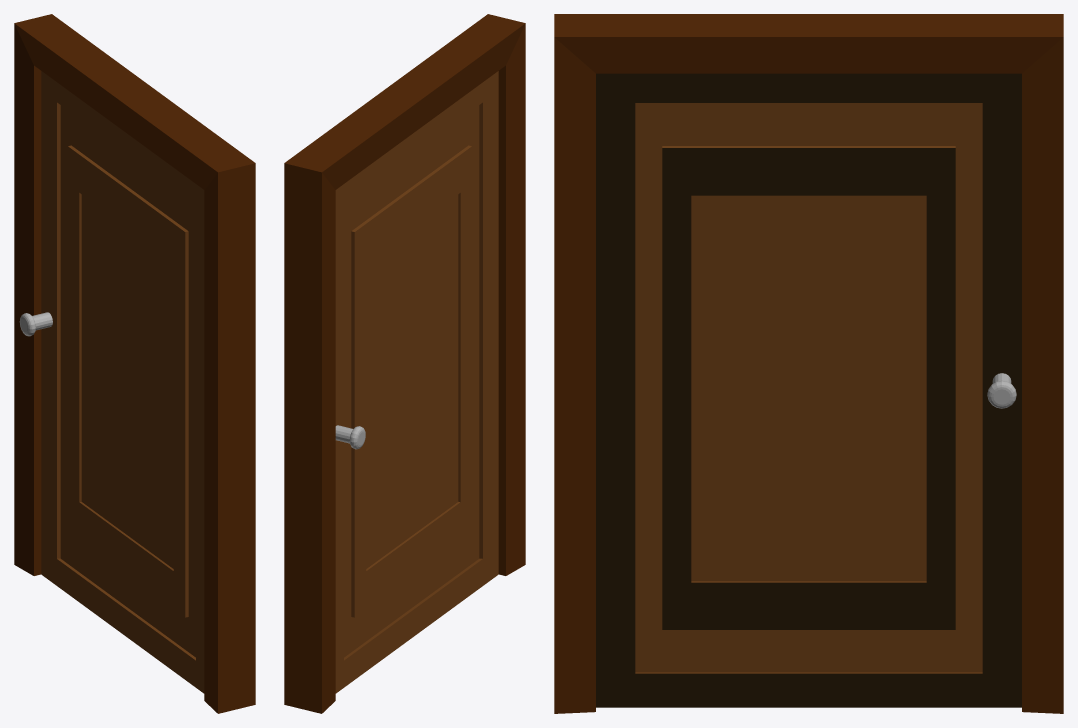
The model's file is Pintu Kantor (Ukuran Fix).fbx.
3 views of the same model, side by side, from view 1: azimuth 30°, elevation 25°; view 2: azimuth 150°, elevation 25°; view 3: azimuth 270°, elevation 25° (orthographic). The views are drawn at different scales.
Parts seen in each view (by area): view 1: Cube.003; view 2: Cube.003; view 3: Cube.003.
Boxes of the visible parts, x1,y1,x2,y2 form: Cube.003: (14,14,255,713); Cube.003: (284,14,525,713); Cube.003: (554,14,1063,713).
Size of the model in its own units: 31.16 by 238 by 162.
